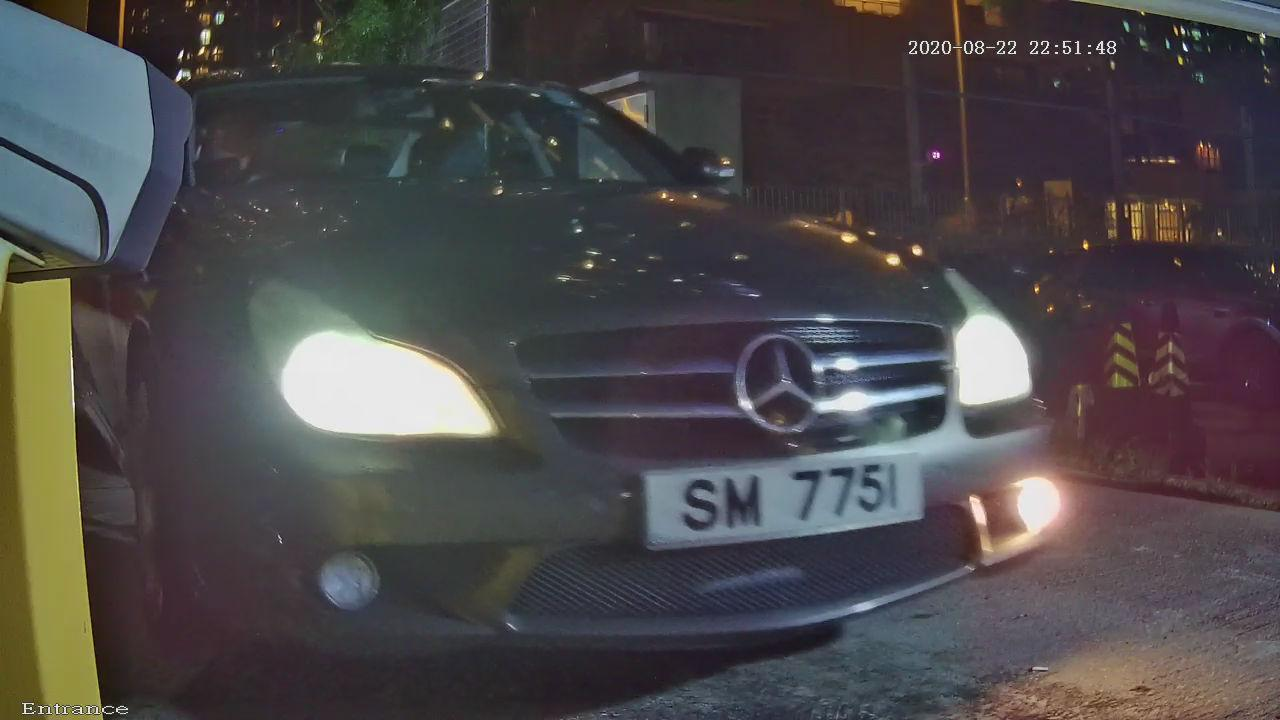Car: (46, 7, 1132, 720)
License Plate: (565, 394, 990, 607)
